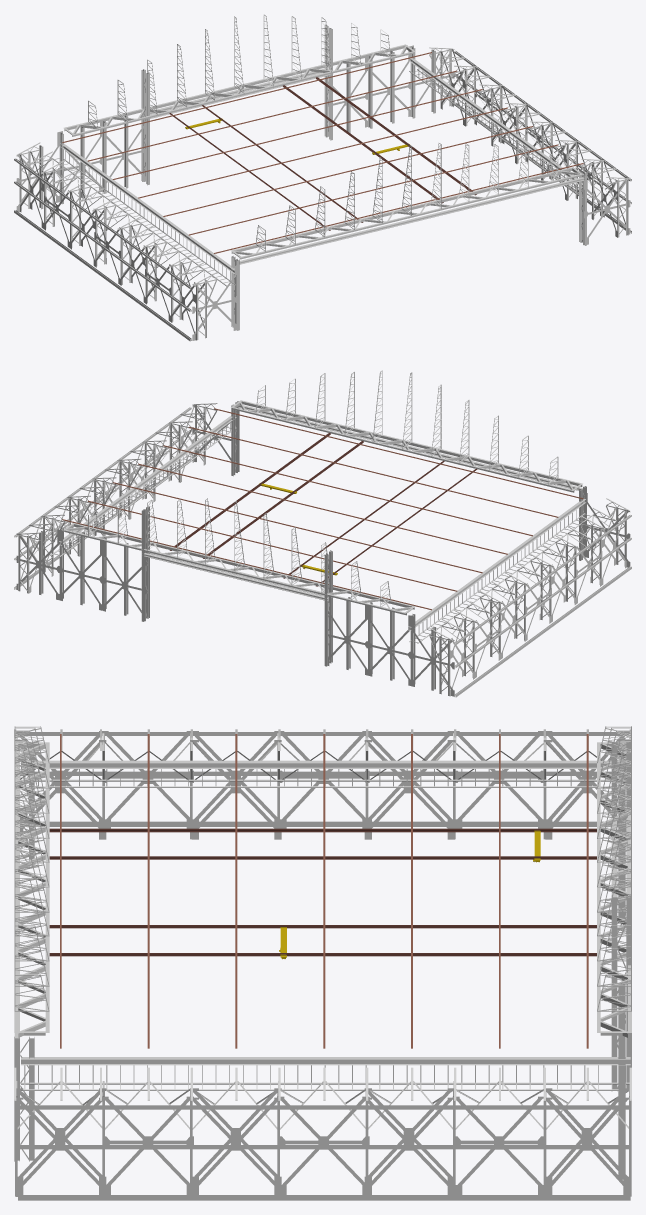
File: bone.obj
3 views of the same model, one above another, from view 1: azimuth 30°, elevation 25°; view 2: azimuth 150°, elevation 25°; view 3: azimuth 270°, elevation 25° (orthographic). The views are drawn at different scales.
Bounding box in the file's own units: 10717 × 3301 × 7468.
